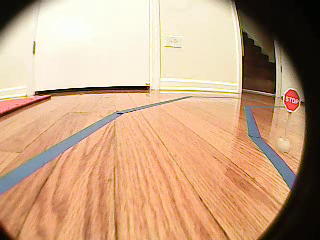Stop Sign: (283, 87, 301, 113)
